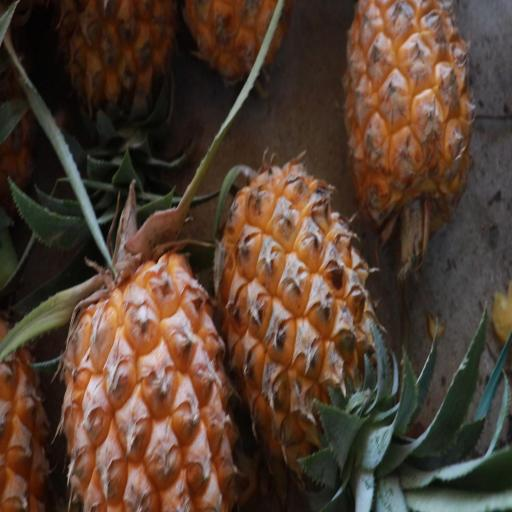Pineapple - v8 v1: (55, 147, 238, 512), (210, 154, 381, 486), (337, 0, 477, 239)
